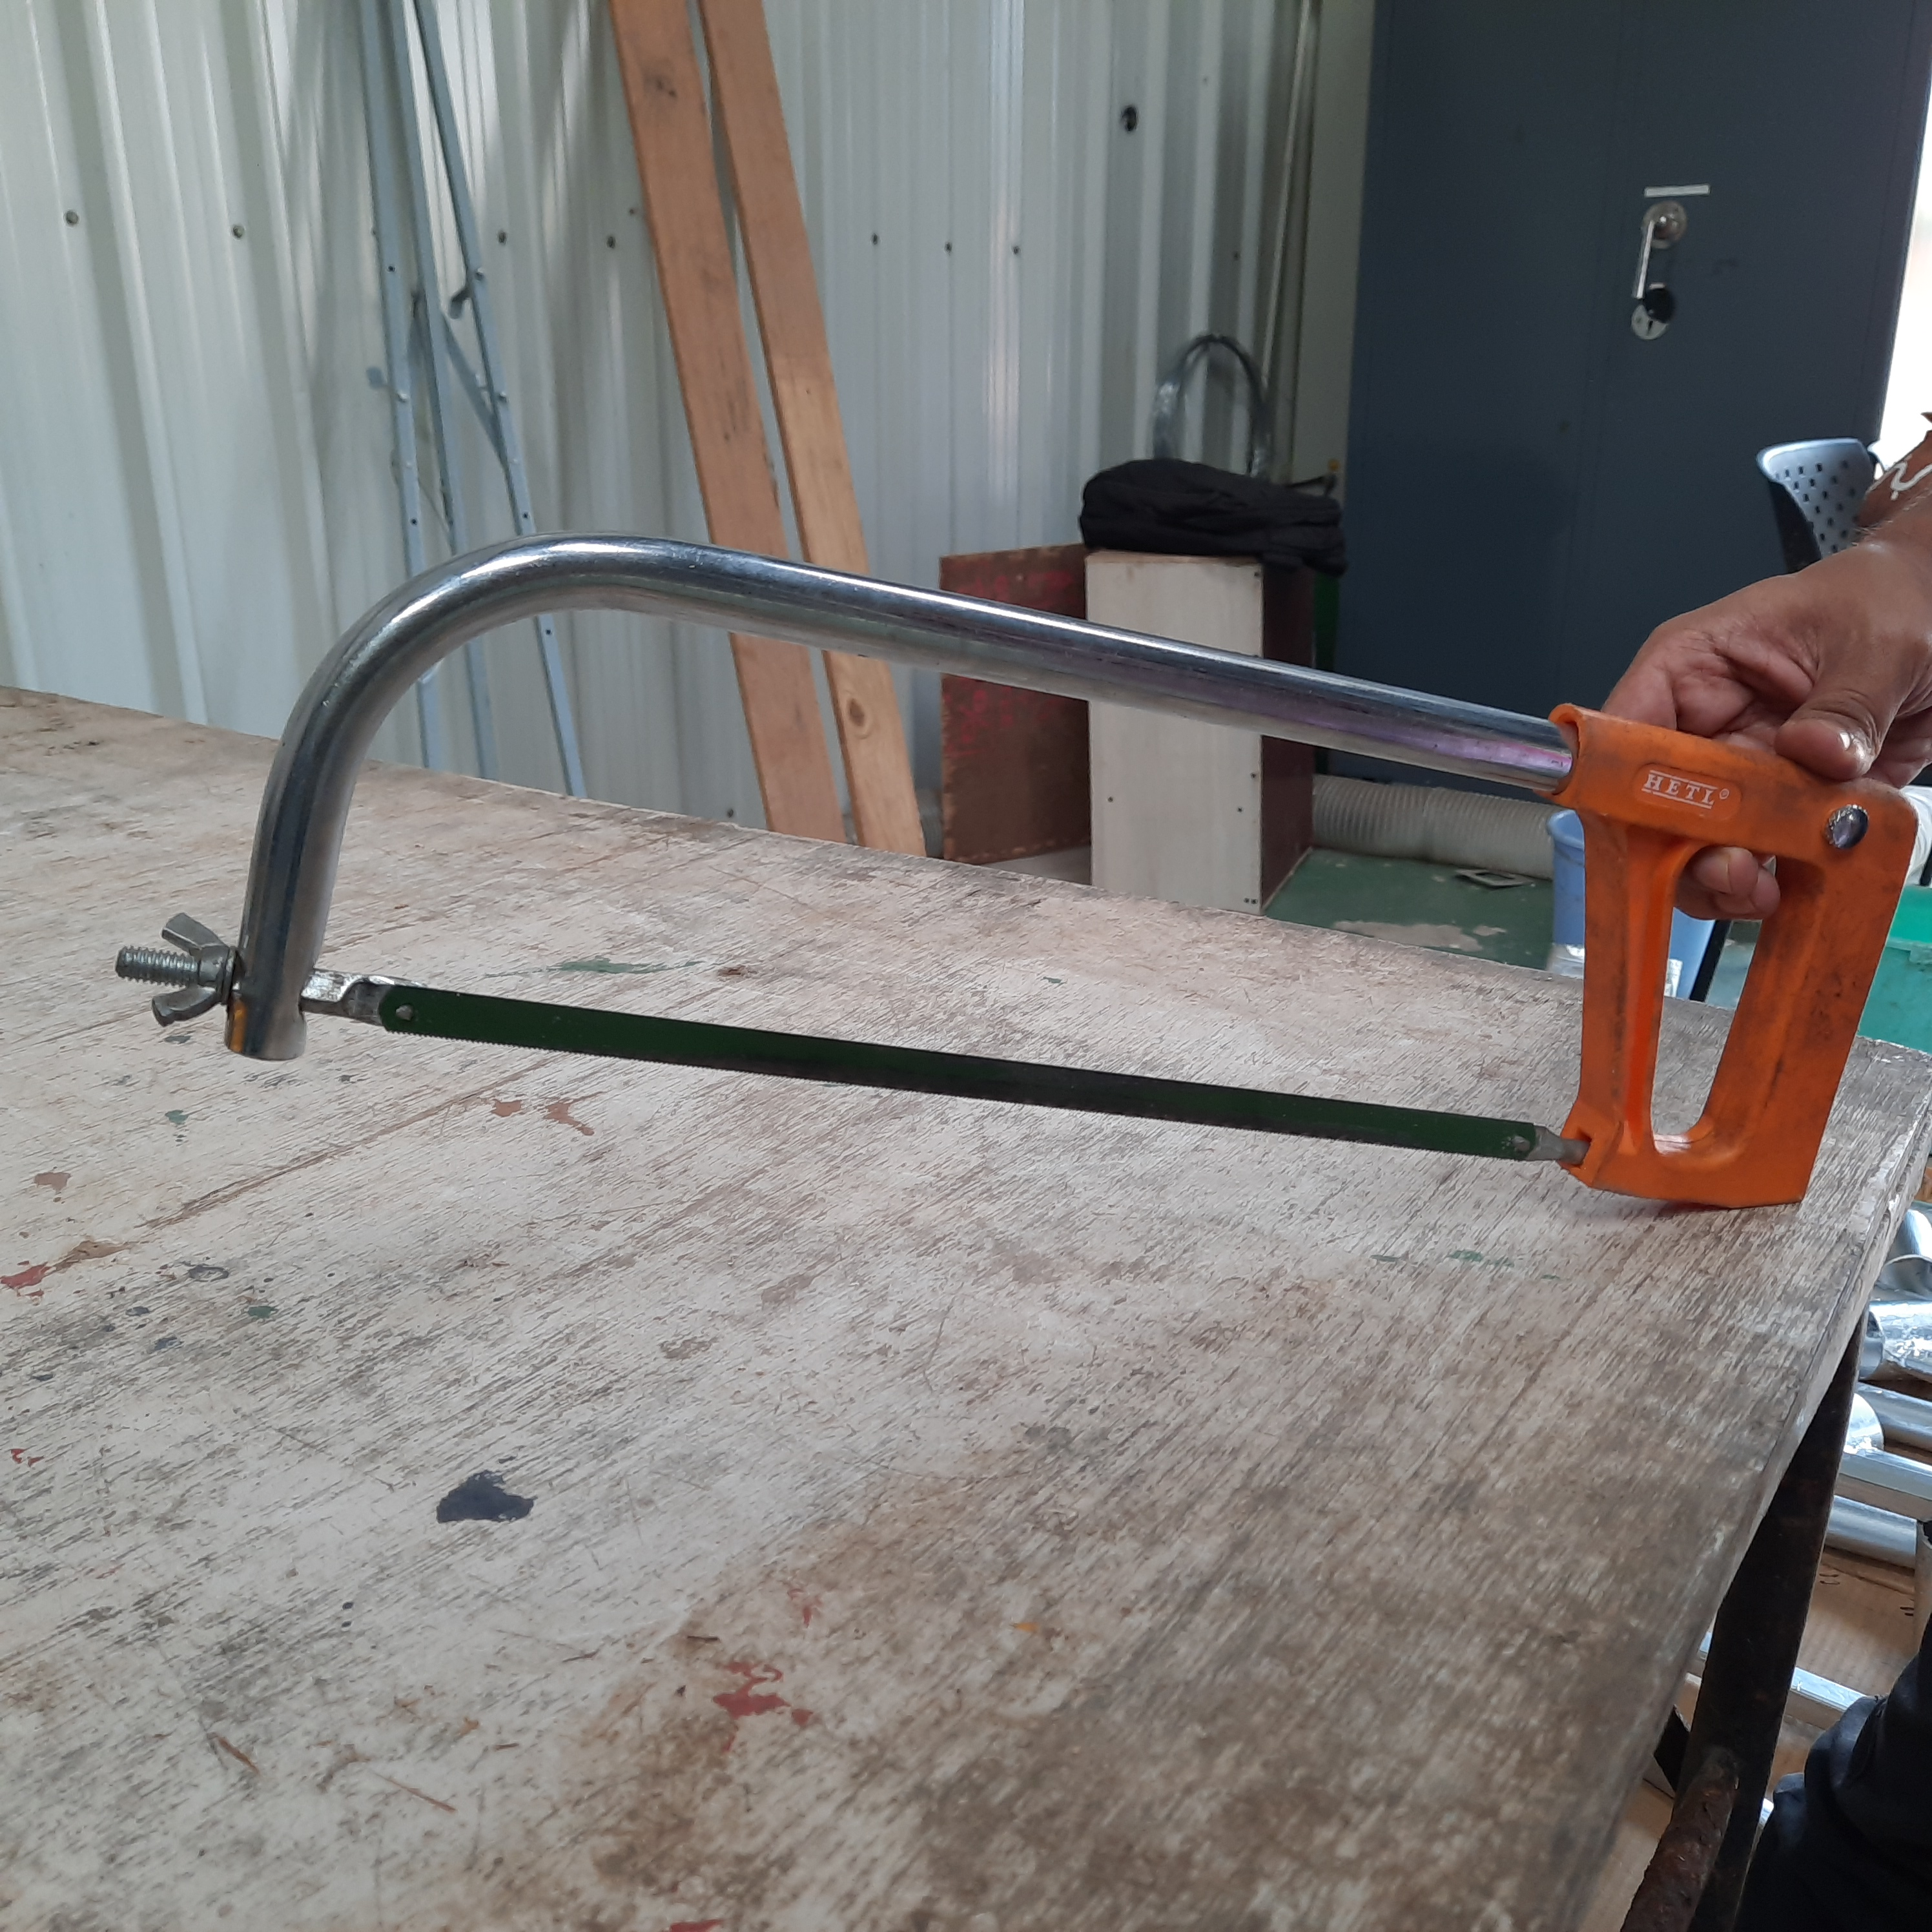Hexaframe: (76, 464, 1905, 1277)
